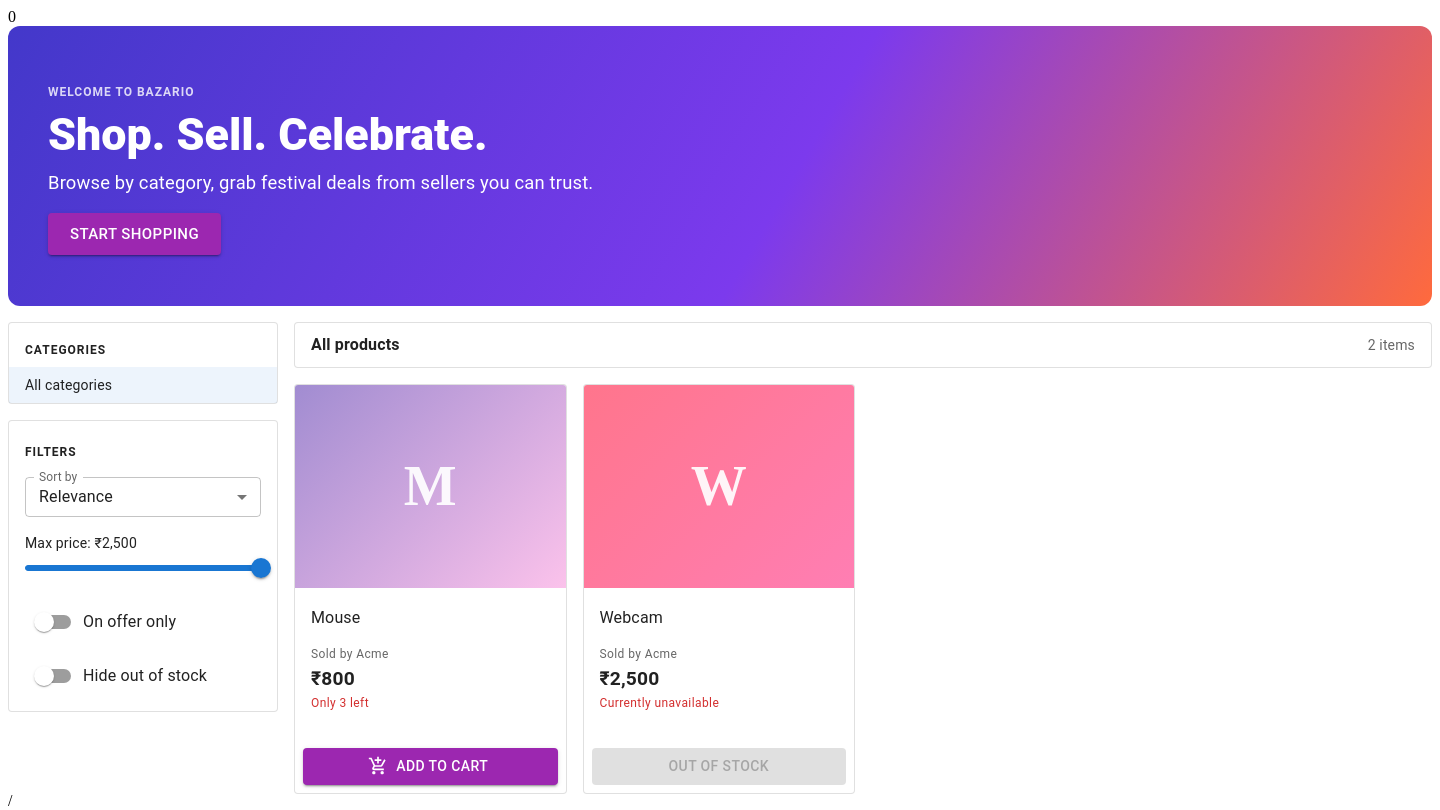
it: ProductList › adds a product to the cart
The image size is (1440, 810).
Expected: the heading "Mouse" is shown, [311,608,360,627]
Click the button "Add to cart".
click(430, 766)  # box [303,748,558,785]
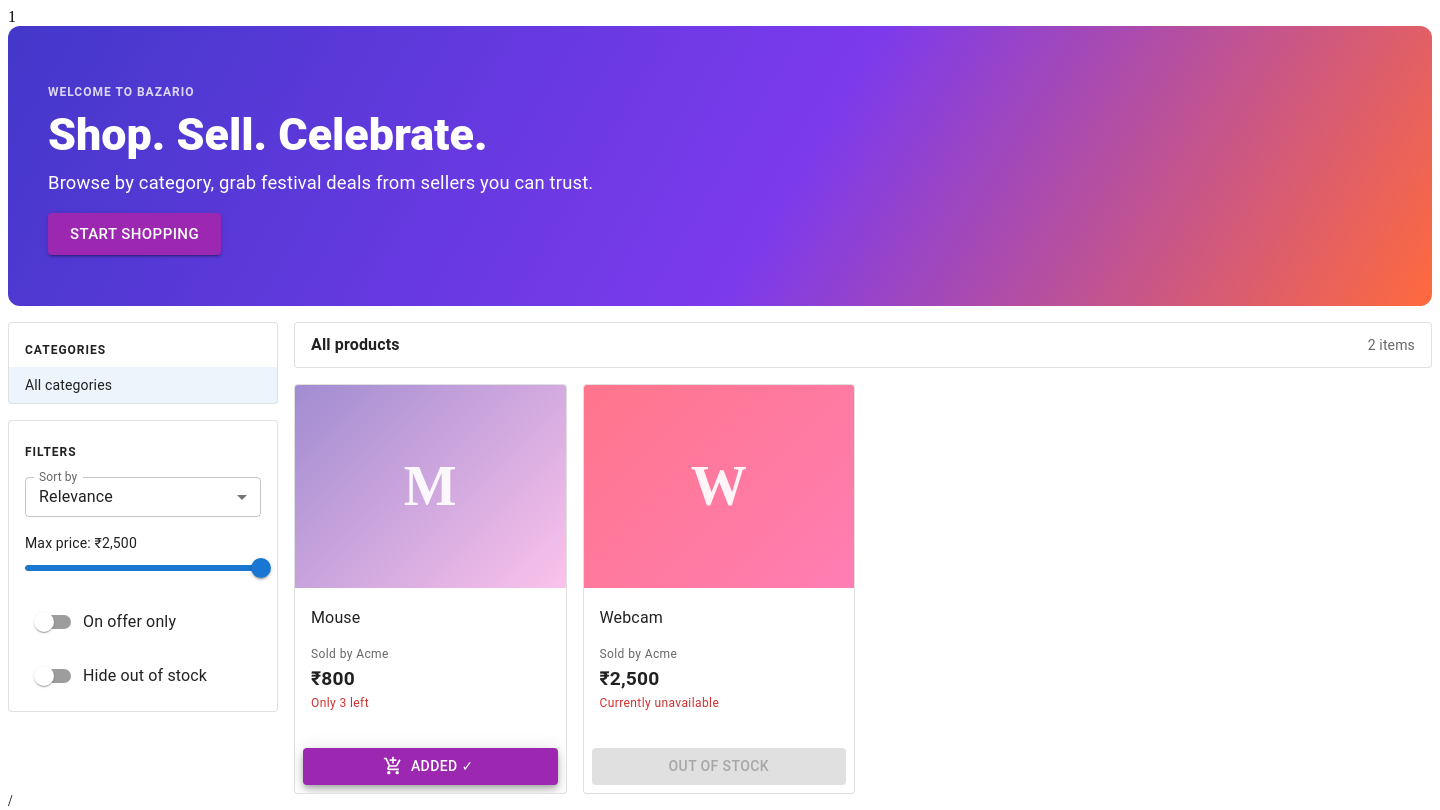
Expected: the text with test id "count" reads "1", [8,8,16,25]
